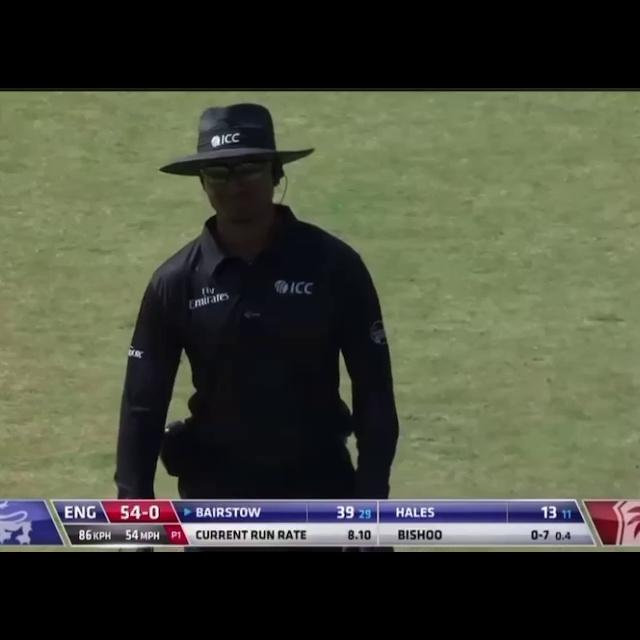umpire: (109, 96, 416, 528)
